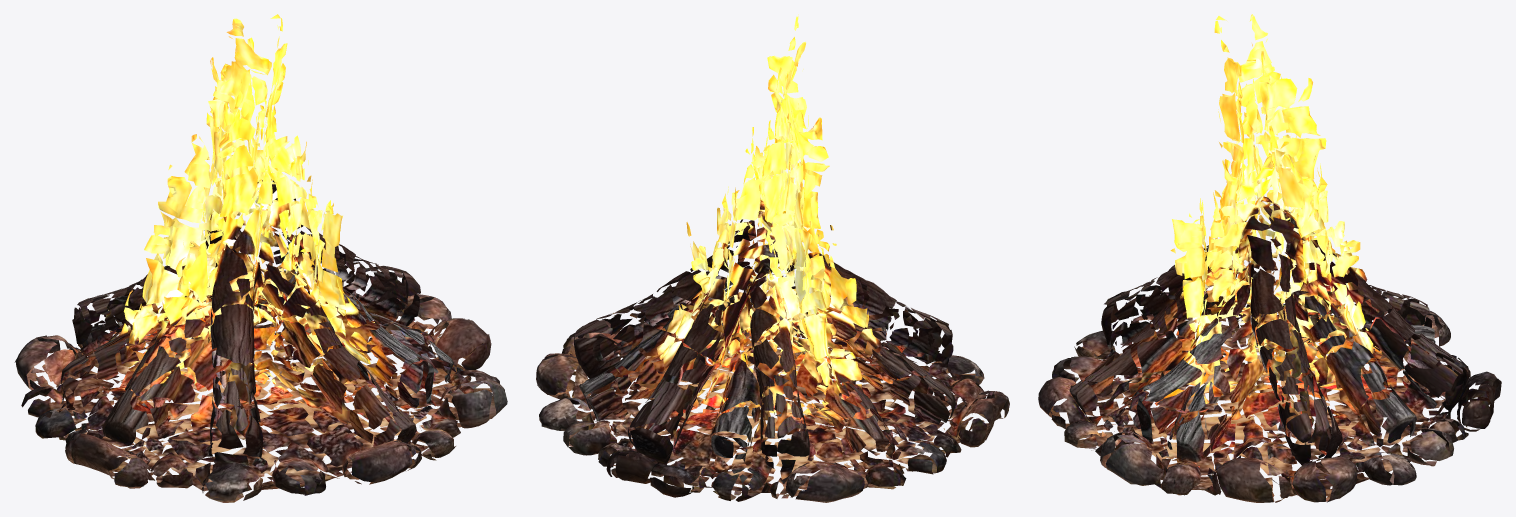
File: feu.glb
3 views of the same model, side by side, from view 1: azimuth 30°, elevation 25°; view 2: azimuth 150°, elevation 25°; view 3: azimuth 270°, elevation 25° (orthographic). The views are drawn at different scales.
Parts seen in each view (by area): view 1: mesh; view 2: mesh; view 3: mesh.
Boxes of the visible parts, left/top/right/bottom form: mesh: left=14, top=14, right=507, bottom=502; mesh: left=536, top=14, right=1009, bottom=502; mesh: left=1038, top=14, right=1501, bottom=502.
Size of the model in its own units: 1.89 by 1.72 by 1.84.
1 material, 1 textured.
